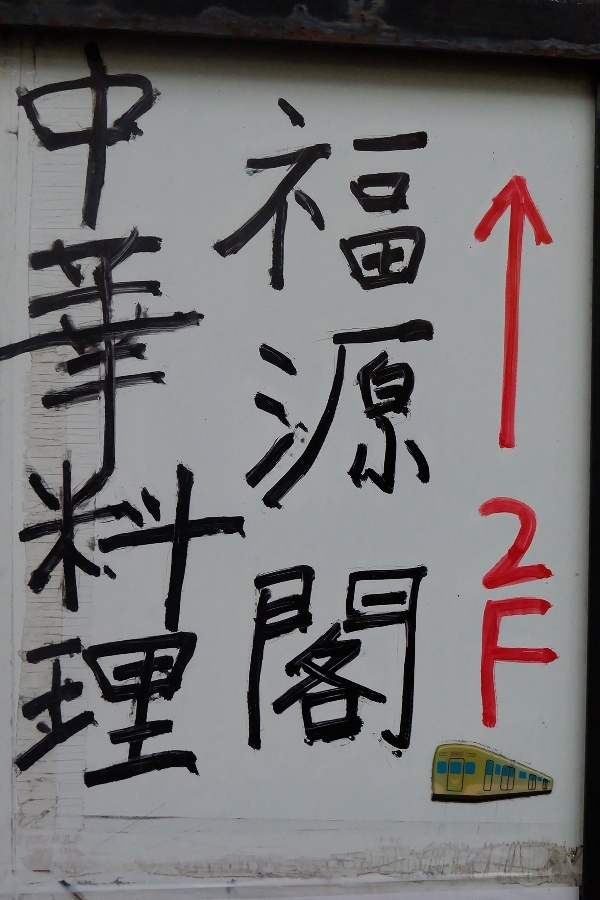text: (17, 29, 32, 814), (33, 29, 48, 814), (49, 29, 64, 814), (65, 29, 80, 814), (81, 29, 96, 814), (97, 29, 112, 814), (113, 29, 128, 814), (129, 29, 144, 814), (145, 29, 160, 814), (161, 29, 176, 814), (177, 29, 192, 814), (193, 29, 208, 814), (209, 29, 224, 814), (225, 29, 240, 814), (241, 29, 256, 814), (209, 71, 224, 796), (225, 71, 240, 796), (241, 71, 256, 796), (257, 71, 272, 796), (273, 71, 288, 796), (289, 71, 304, 796), (305, 71, 320, 796), (321, 71, 336, 796), (337, 71, 352, 796), (353, 71, 368, 796), (369, 71, 384, 796), (385, 71, 400, 796), (401, 71, 416, 796), (417, 71, 432, 796), (433, 71, 444, 796), (257, 29, 266, 814), (481, 475, 496, 758), (497, 475, 512, 758), (513, 475, 528, 758), (529, 475, 544, 758), (545, 475, 560, 758), (474, 475, 480, 758), (14, 29, 16, 814), (561, 475, 562, 758)
